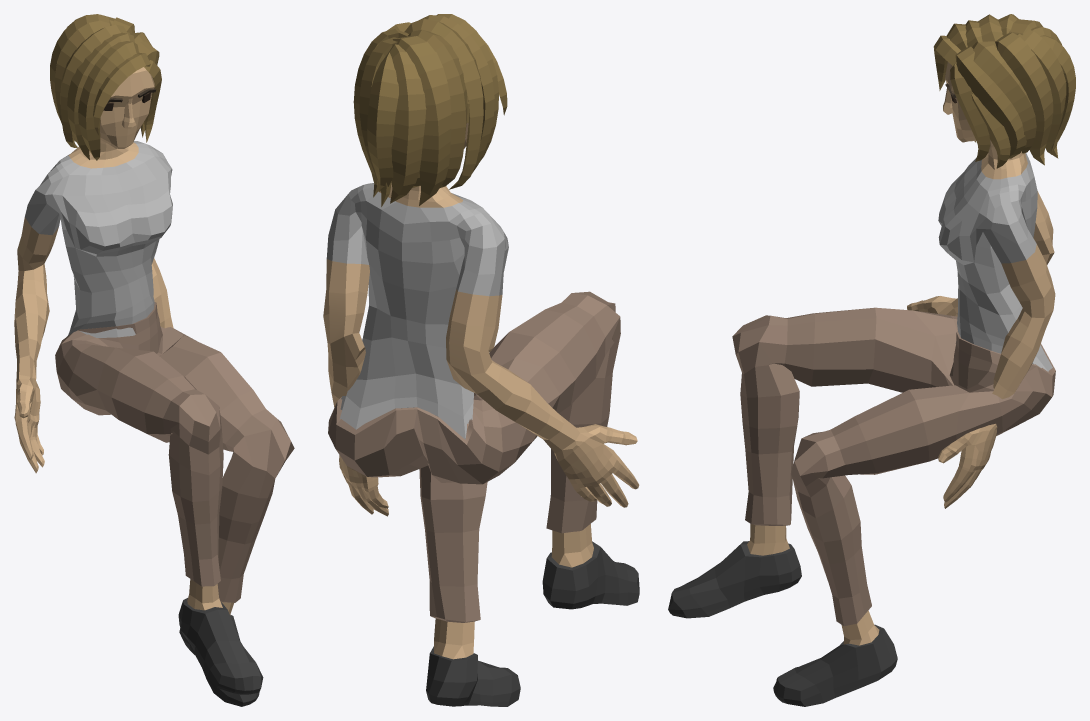
Rendered from woman-casual.glb.
The picture shows the model from 3 angles, left to right: view 1: azimuth 30°, elevation 25°; view 2: azimuth 150°, elevation 25°; view 3: azimuth 270°, elevation 25°; orthographic projection. The views are drawn at different scales.
Parts seen in each view (by area): view 1: woman-casual; view 2: woman-casual; view 3: woman-casual.
Part boxes in pixels (left/top/right/bottom): woman-casual: left=14, top=14, right=294, bottom=706; woman-casual: left=323, top=14, right=639, bottom=706; woman-casual: left=668, top=14, right=1075, bottom=706.
Bounding box in the file's own units: 0.5517 × 1.45 × 0.8155.
